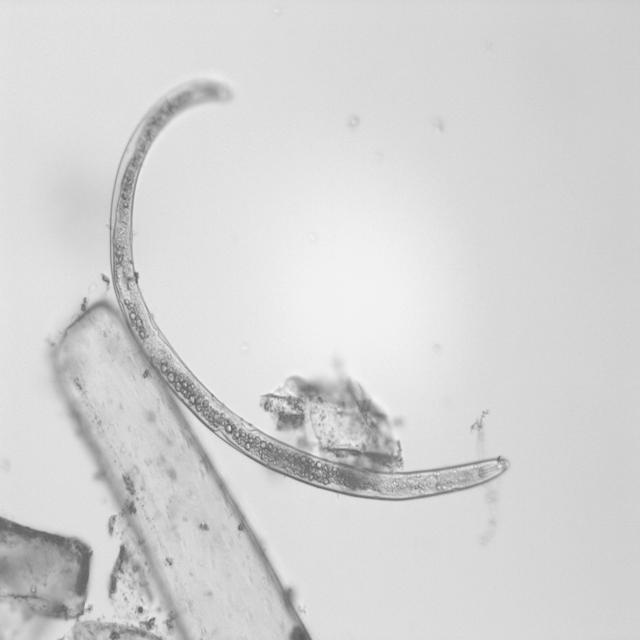Helicotylenchus: (105, 71, 508, 506)
